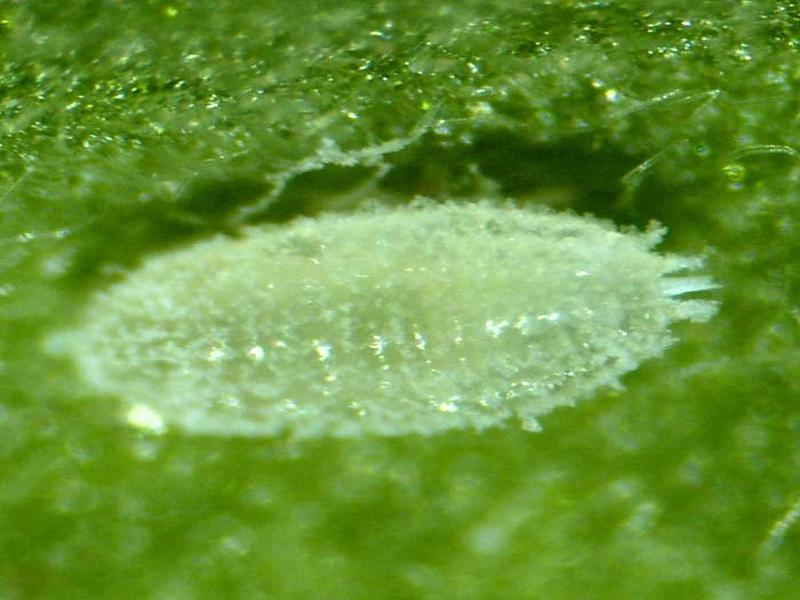Mealy_bug: (67, 180, 735, 464)
